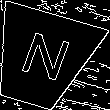N_S: (12, 29, 72, 89)
